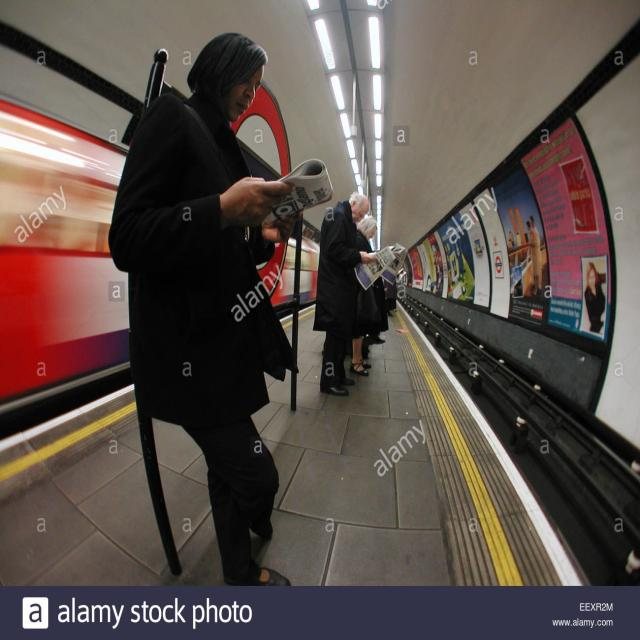body: (105, 31, 336, 586), (312, 192, 376, 398), (348, 214, 381, 377), (360, 238, 405, 324), (516, 209, 554, 306), (578, 254, 611, 340), (350, 324, 389, 359)
